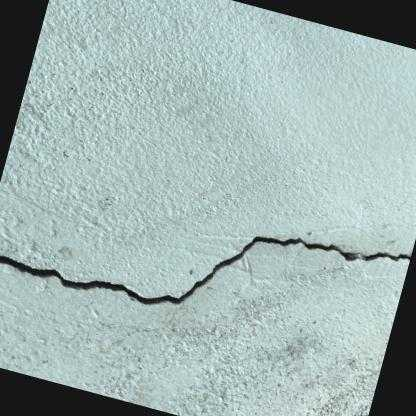crack: (0, 233, 411, 306)
